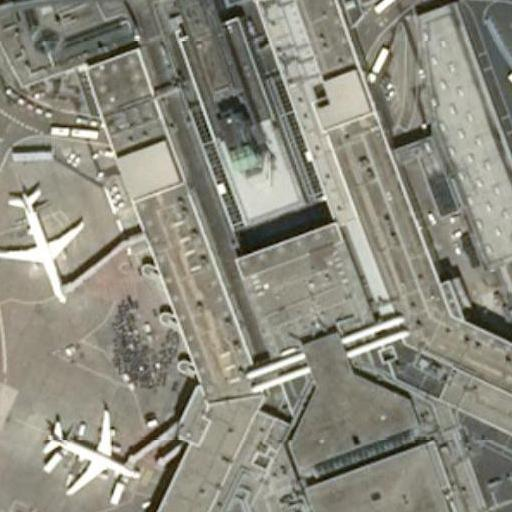Aircraft: (0, 186, 81, 307), (39, 405, 141, 496)
